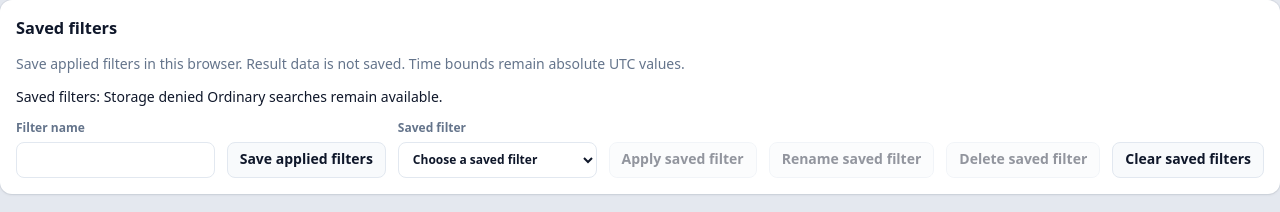
Test: handles denied storage reads and quota errors without a render failure
Expected: the message shows "Storage denied", x1=104 y1=87 x2=204 y2=106
Type "All" into the field labelled "Filter name".
click(115, 160); type("All")  # box x1=16 y1=142 x2=215 y2=178
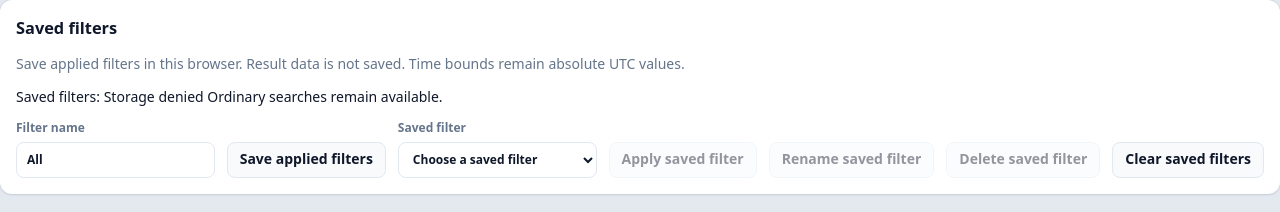
Click the button "Save applied filters".
click(306, 160)  # box x1=227 y1=142 x2=386 y2=178
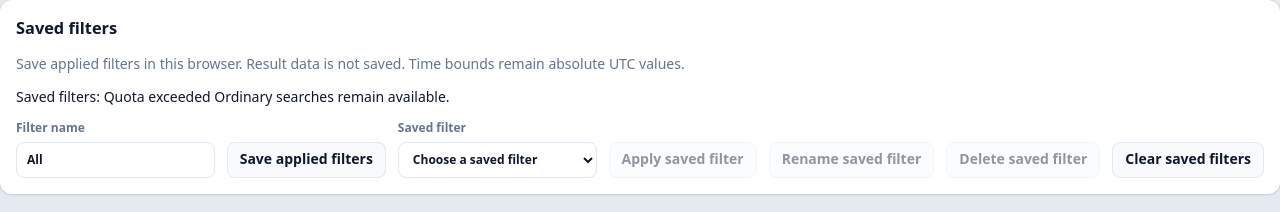
Expected: the dropdown labelled "Saved filter" shows "Choose a saved filter", x1=398 y1=142 x2=597 y2=178
Expected: the message shows "Quota exceeded", x1=104 y1=87 x2=211 y2=106
